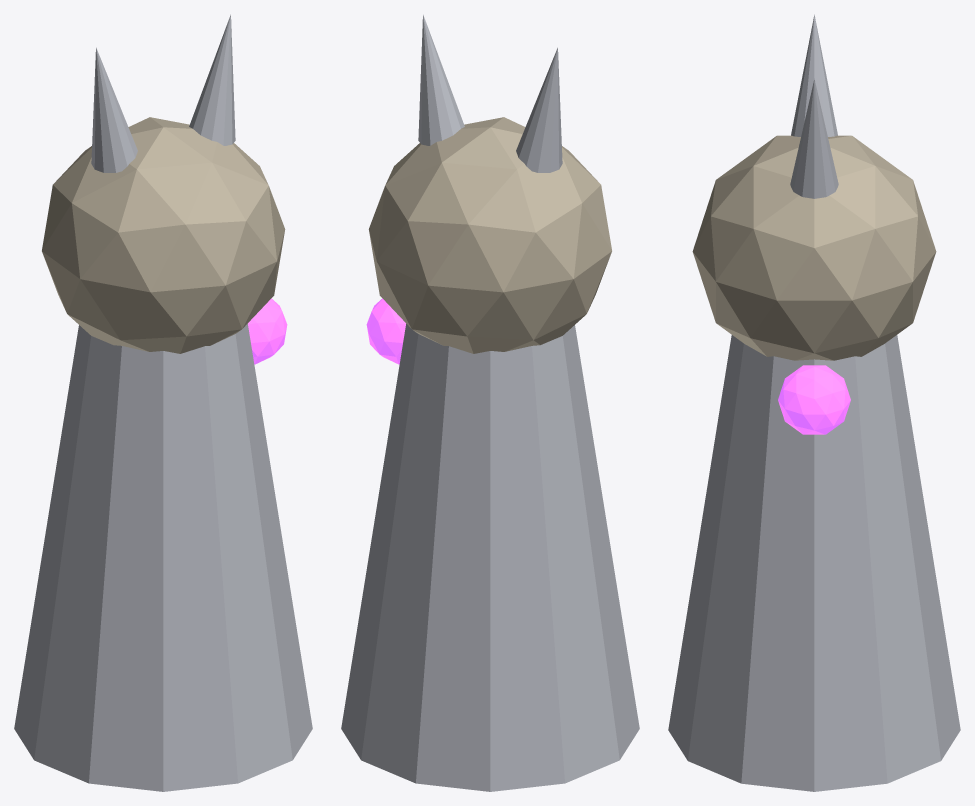
Rendered from dawnless-crown.glb.
3 views of the same model, side by side, from view 1: azimuth 30°, elevation 25°; view 2: azimuth 150°, elevation 25°; view 3: azimuth 270°, elevation 25° (orthographic). The views are drawn at different scales.
Visible parts, largest first — view 1: dawnless-body, dawnless-head, dawnless-crown-spike-0, dawnless-crown-spike-1, dawnless-orb-prop; view 2: dawnless-body, dawnless-head, dawnless-crown-spike-0, dawnless-crown-spike-1, dawnless-orb-prop; view 3: dawnless-body, dawnless-head, dawnless-orb-prop, dawnless-crown-spike-1, dawnless-crown-spike-0.
Boxes of the visible parts, x1,y1,x2,y2 form: dawnless-body: (14,323,312,791); dawnless-head: (42,117,285,353); dawnless-crown-spike-0: (91,47,137,172); dawnless-crown-spike-1: (189,14,235,145); dawnless-orb-prop: (248,298,287,364); dawnless-body: (341,323,639,791); dawnless-head: (368,117,611,353); dawnless-crown-spike-0: (516,47,562,172); dawnless-crown-spike-1: (418,14,464,145); dawnless-orb-prop: (366,298,405,364); dawnless-body: (668,335,960,791); dawnless-head: (692,135,936,360); dawnless-orb-prop: (778,365,850,434); dawnless-crown-spike-1: (790,78,838,198); dawnless-crown-spike-0: (791,14,837,136).
Bounding box in the file's own units: 0.36 × 0.9288 × 0.36.
